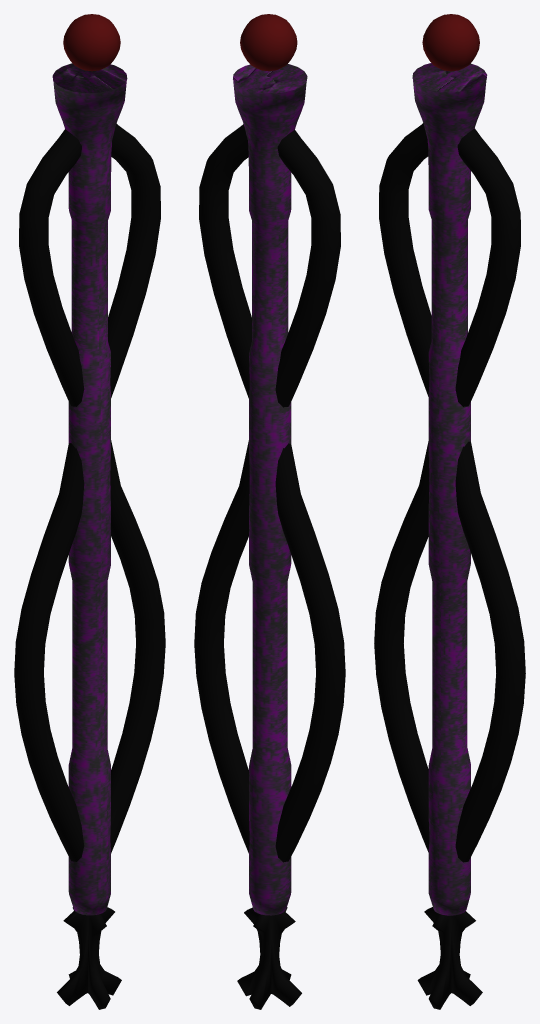
Rendered from DarkStaff.fbx.
3 views of the same model, side by side, from view 1: azimuth 30°, elevation 25°; view 2: azimuth 150°, elevation 25°; view 3: azimuth 330°, elevation 25° (orthographic).
Parts seen in each view (by area): view 1: DarkStaff.001; view 2: DarkStaff.001; view 3: DarkStaff.001.
Boxes of the visible parts, x1=… form: DarkStaff.001: x1=14, y1=14, x2=165, y2=1009; DarkStaff.001: x1=194, y1=14, x2=345, y2=1009; DarkStaff.001: x1=374, y1=14, x2=525, y2=1009.
Bounding box in the file's own units: 23.68 × 151 × 10.45.
Materials: 1 (1 with a texture image).
